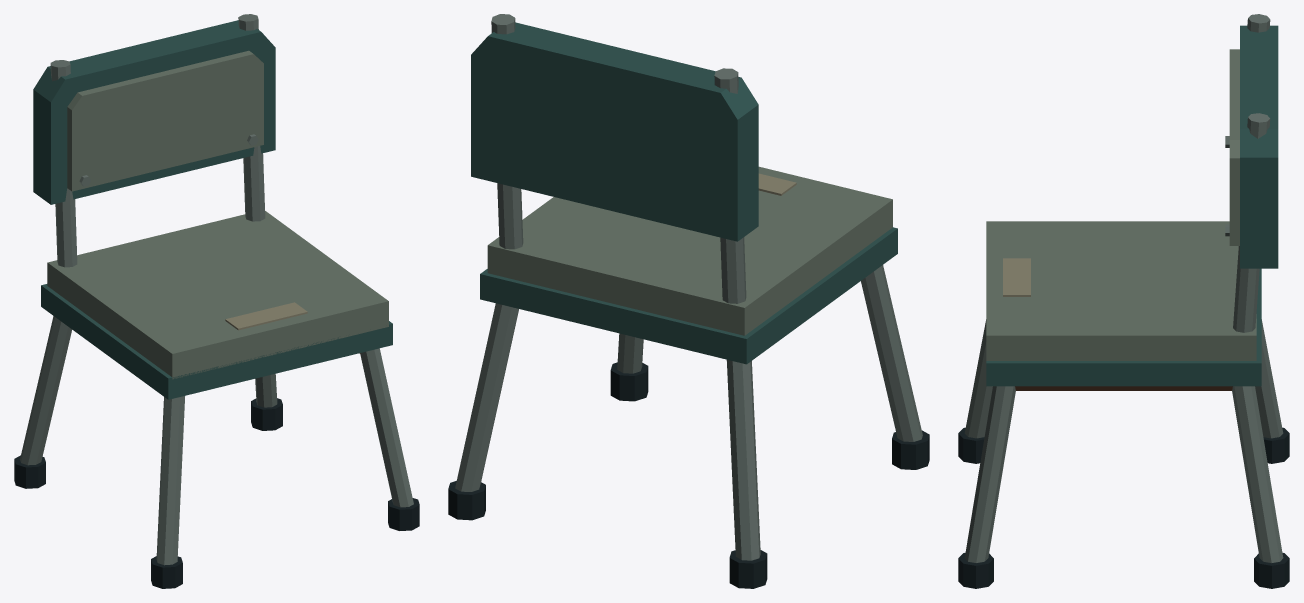
The model's file is v116-yard-gatehouse-chair.glb.
3 views of the same model, side by side, from view 1: azimuth 30°, elevation 25°; view 2: azimuth 150°, elevation 25°; view 3: azimuth 270°, elevation 25° (orthographic). The views are drawn at different scales.
Visible parts, largest first — view 1: gatehouse-chair; view 2: gatehouse-chair; view 3: gatehouse-chair.
Part boxes in pixels (x1,y1,x2,y2): gatehouse-chair: [14, 14, 419, 588]; gatehouse-chair: [448, 14, 929, 588]; gatehouse-chair: [958, 14, 1289, 588].
Bounding box in the file's own units: 0.65 × 0.9764 × 0.65.
